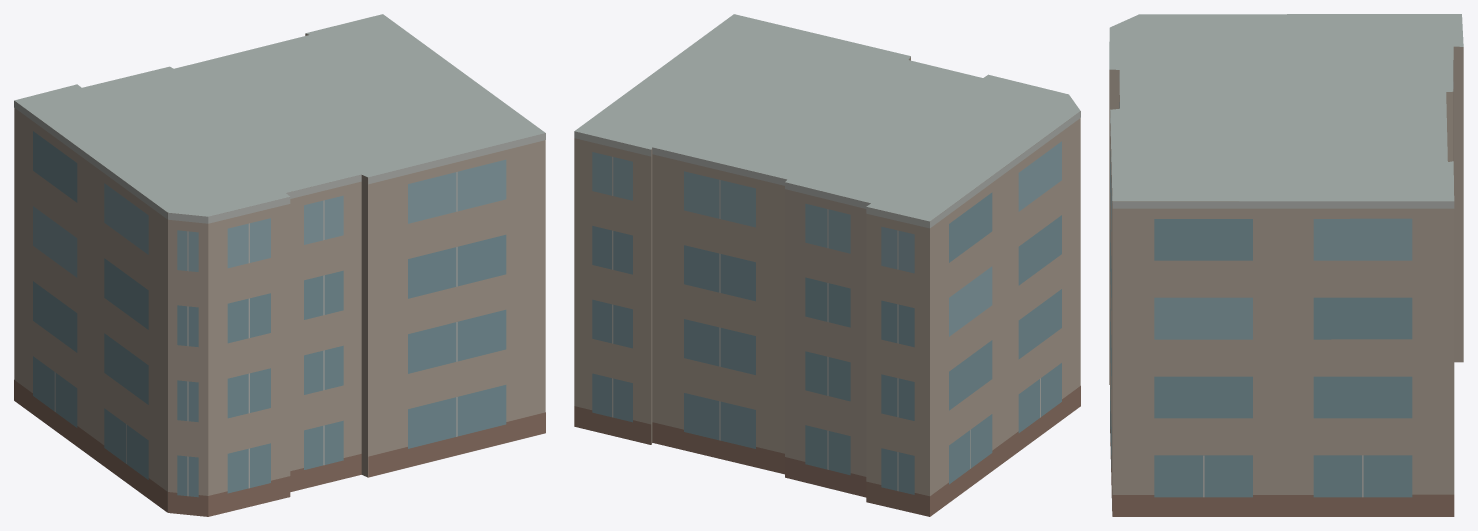
The model's file is survey-upis-32840926.glb.
3 renders of one model, left to right at view 1: azimuth 30°, elevation 25°; view 2: azimuth 150°, elevation 25°; view 3: azimuth 270°, elevation 25°, orthographic. The views are drawn at different scales.
Visible parts, largest first — view 1: survey-upis-32840926.tmp; view 2: survey-upis-32840926.tmp; view 3: survey-upis-32840926.tmp.
Boxes of the visible parts, x1,y1,x2,y2 form: survey-upis-32840926.tmp: (14,14,545,516); survey-upis-32840926.tmp: (574,14,1080,516); survey-upis-32840926.tmp: (1109,14,1463,516).
Size of the model in its own units: 13.26 by 10.4 by 10.6.
